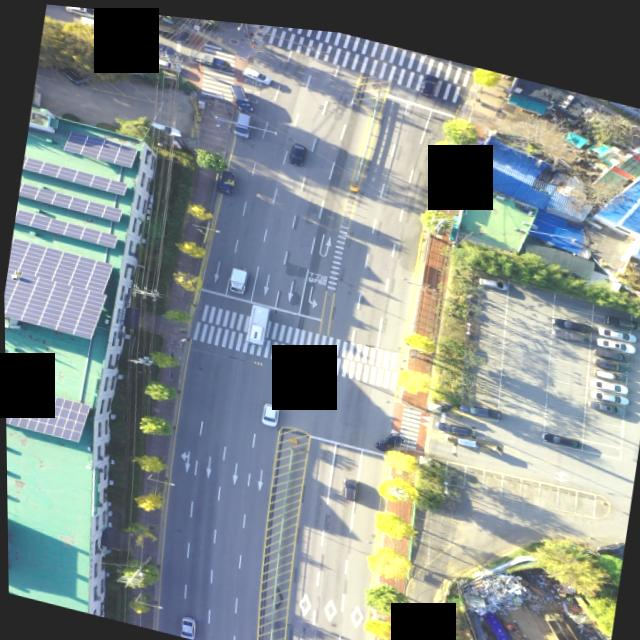car: (454, 387, 504, 412), (373, 418, 408, 450), (150, 16, 194, 40), (227, 78, 259, 109), (548, 313, 592, 335), (551, 302, 592, 323), (595, 312, 638, 332), (601, 299, 640, 321), (595, 323, 637, 343), (591, 333, 634, 352), (585, 386, 628, 405), (134, 33, 177, 52), (140, 50, 183, 68), (543, 419, 582, 438), (591, 343, 630, 362), (229, 105, 253, 134), (590, 375, 628, 393), (589, 354, 628, 371), (590, 365, 628, 382), (240, 61, 274, 80), (438, 411, 475, 428), (475, 263, 508, 282), (260, 395, 281, 422), (62, 5, 105, 18), (287, 134, 308, 159), (176, 611, 196, 637), (340, 470, 357, 495)
large_bus: (242, 297, 277, 344)
medium_truck: (538, 593, 595, 640)
small_truck: (78, 12, 130, 38), (187, 44, 233, 68), (215, 163, 239, 194), (226, 261, 249, 290)
